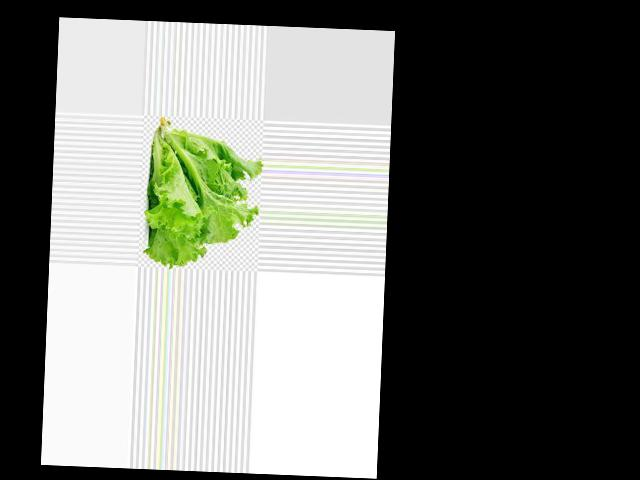lettuce: (132, 151, 250, 253)
